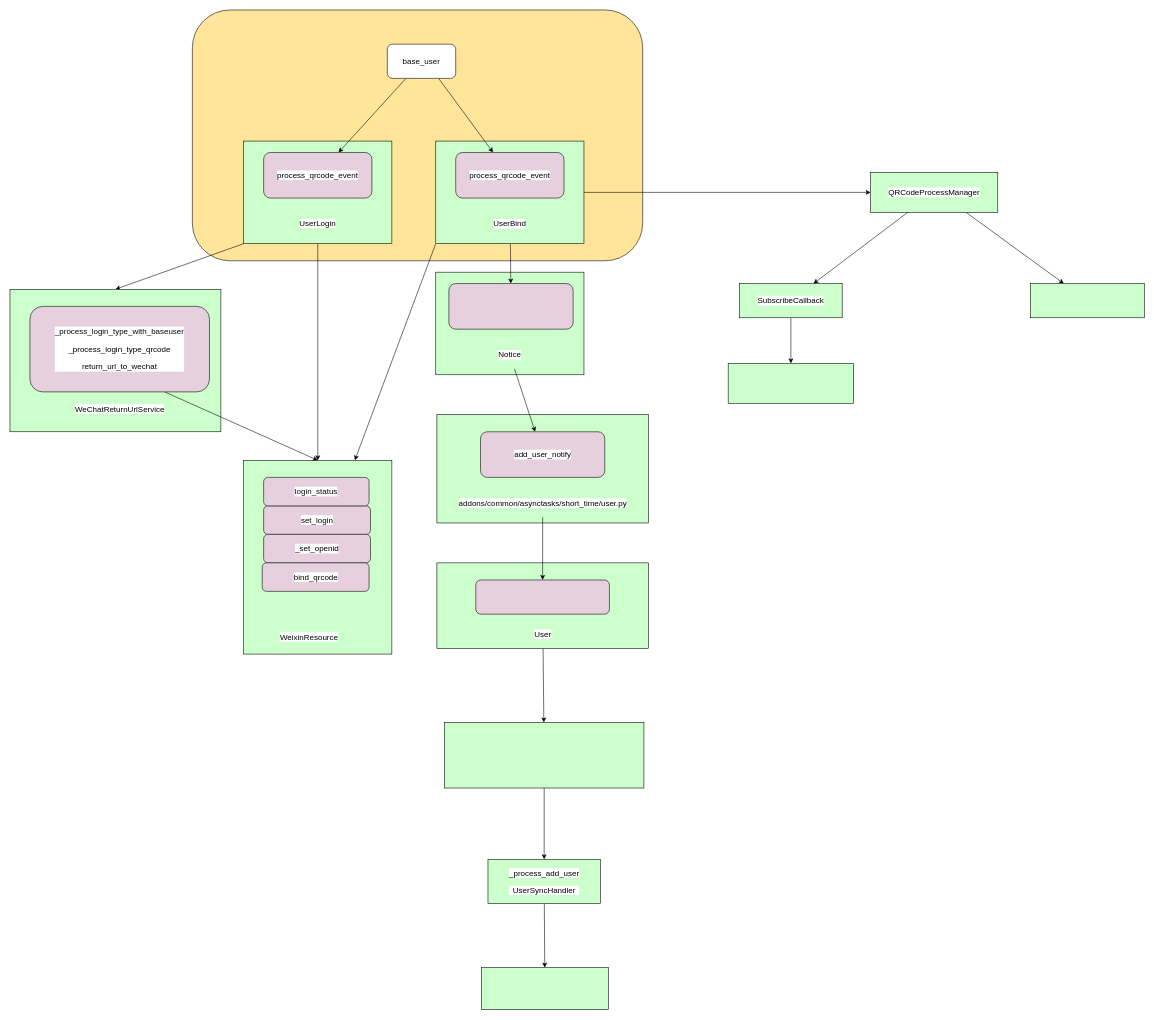
Image size: 1154x1020. Some labels were removed from this diagram. Here are the shapes that lost their labels. From the top down, the centre of each, then its label:
(x=510, y=306): send_create_new_user_email
(x=1087, y=300): QRCodeScanCallback
(x=791, y=383): WechatEventCallback
(x=542, y=596): _send_create_new_user_email
(x=544, y=755): UserPersistService
(x=544, y=988): BaseTableSyncHandler
